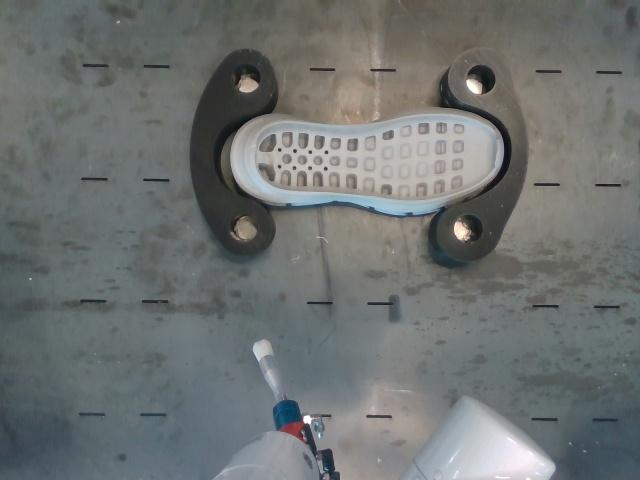shoes: (254, 114, 498, 201)
